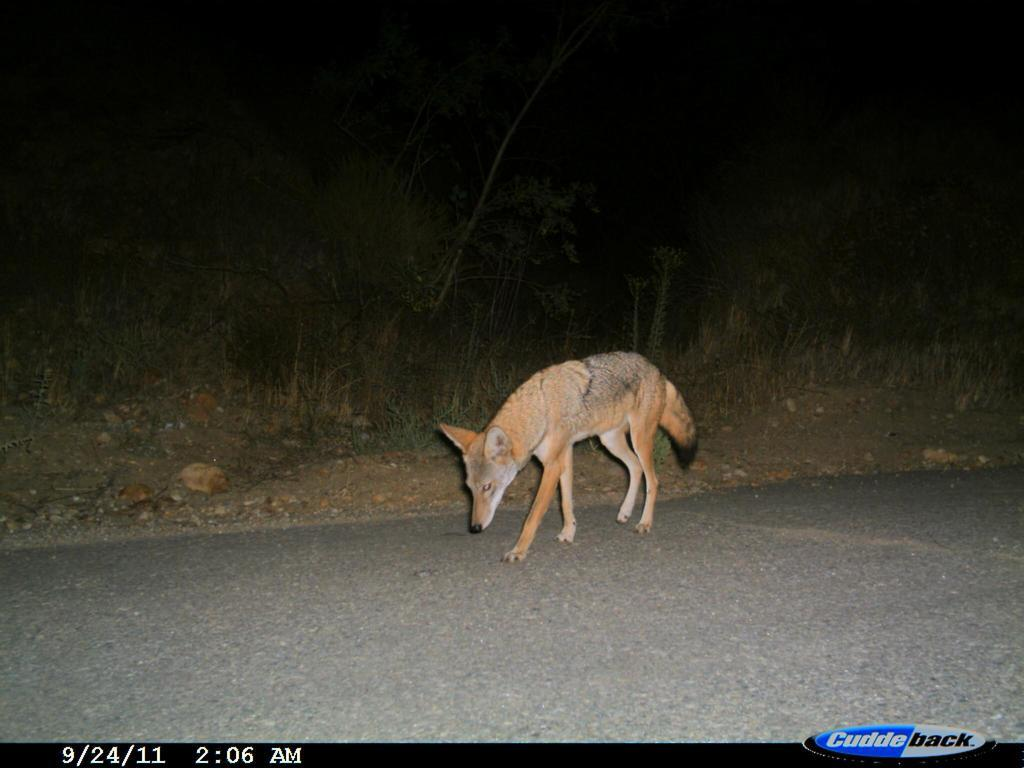coyote: (436, 345, 711, 571)
